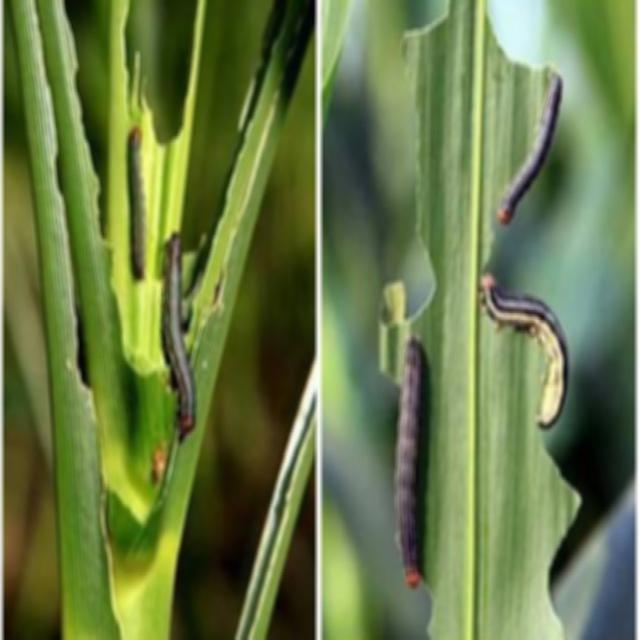army worm: (480, 266, 570, 433), (396, 334, 436, 588), (503, 66, 561, 233), (161, 229, 199, 438), (120, 124, 157, 284)
